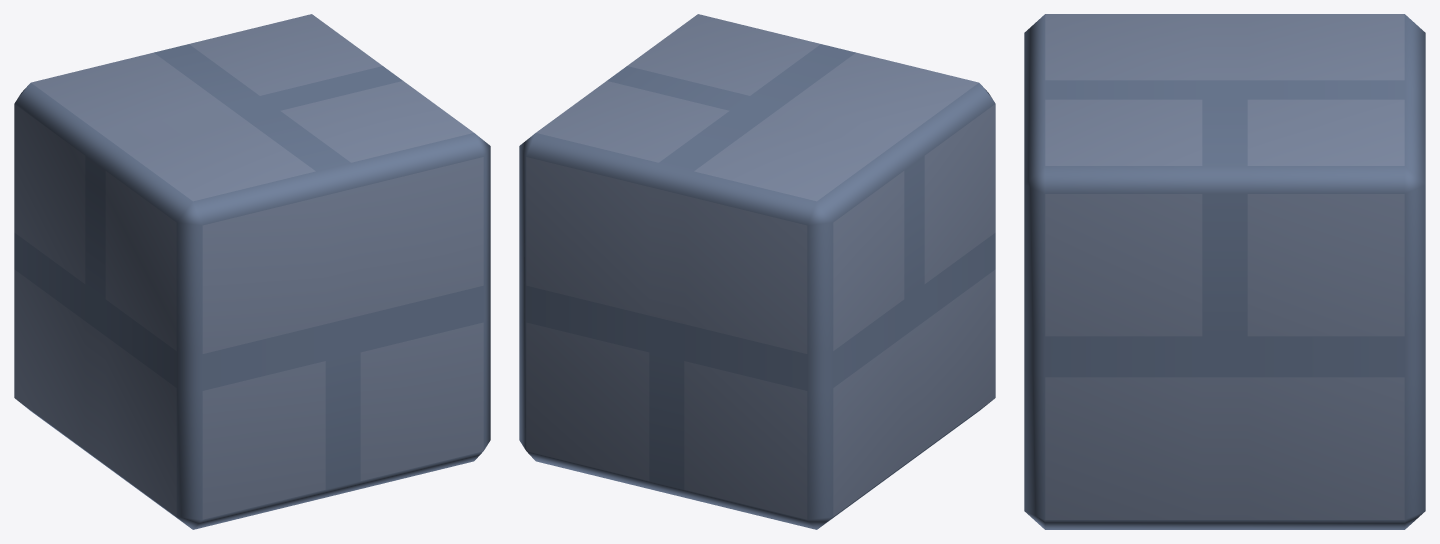
The model's file is Stone_Block.fbx.
3 views of the same model, side by side, from view 1: azimuth 30°, elevation 25°; view 2: azimuth 150°, elevation 25°; view 3: azimuth 270°, elevation 25° (orthographic). The views are drawn at different scales.
Visible parts, largest first — view 1: Cube.026; view 2: Cube.026; view 3: Cube.026.
Boxes of the visible parts, box(x1,y1,x2,y2) form: Cube.026: box(14, 14, 490, 529); Cube.026: box(519, 14, 995, 529); Cube.026: box(1024, 14, 1425, 529).
Bounding box in the file's own units: 35 × 35 × 35.
